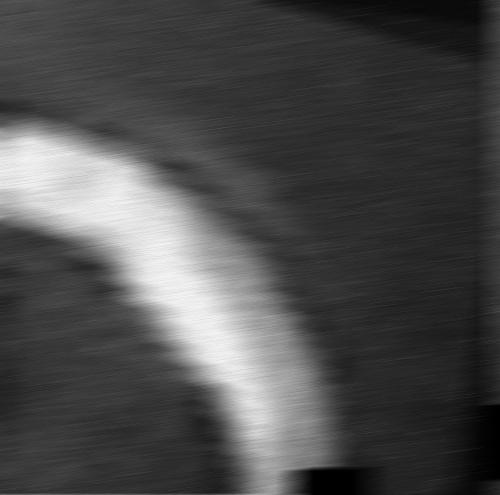Airbag: (0, 0, 500, 494), (490, 0, 500, 494)
